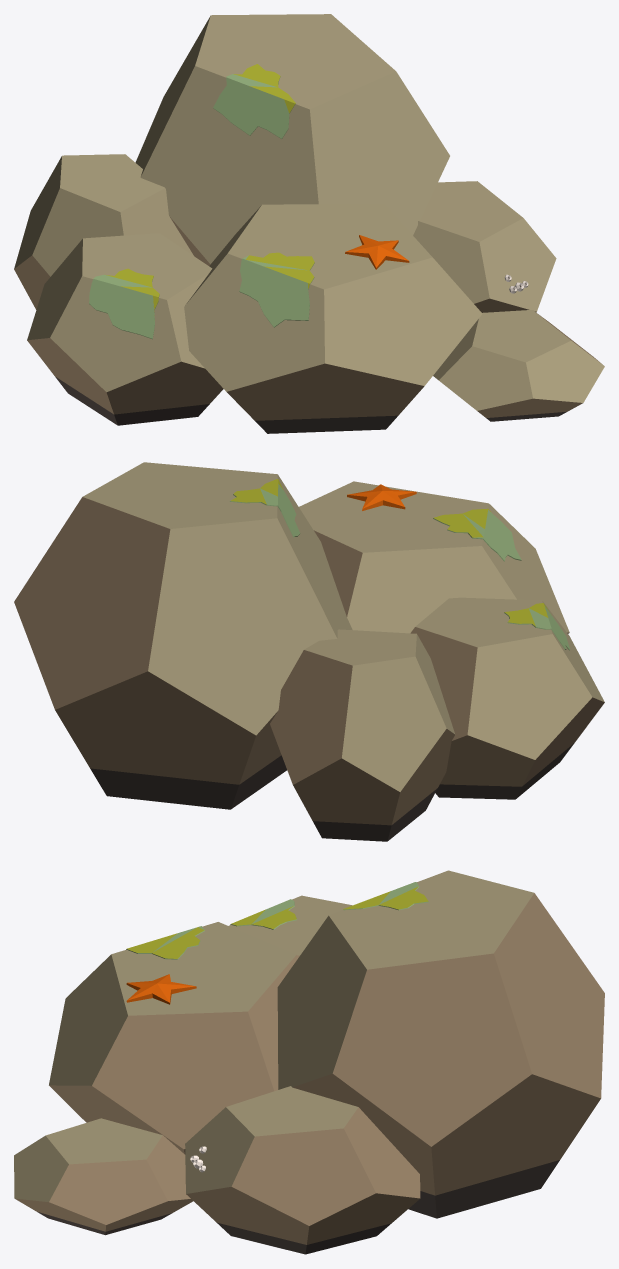
The model's file is tropicalRockCluster.glb.
3 views of the same model, one above another, from view 1: azimuth 30°, elevation 25°; view 2: azimuth 150°, elevation 25°; view 3: azimuth 270°, elevation 25° (orthographic). The views are drawn at different scales.
Visible parts, largest first — view 1: tropicalRockCluster; view 2: tropicalRockCluster; view 3: tropicalRockCluster.
Part boxes in pixels (x1,y1,x2,y2): tropicalRockCluster: [14, 14, 604, 433]; tropicalRockCluster: [14, 462, 604, 841]; tropicalRockCluster: [14, 870, 604, 1254].
Size of the model in its own units: 2 by 1 by 2.
1 material, 1 textured.
